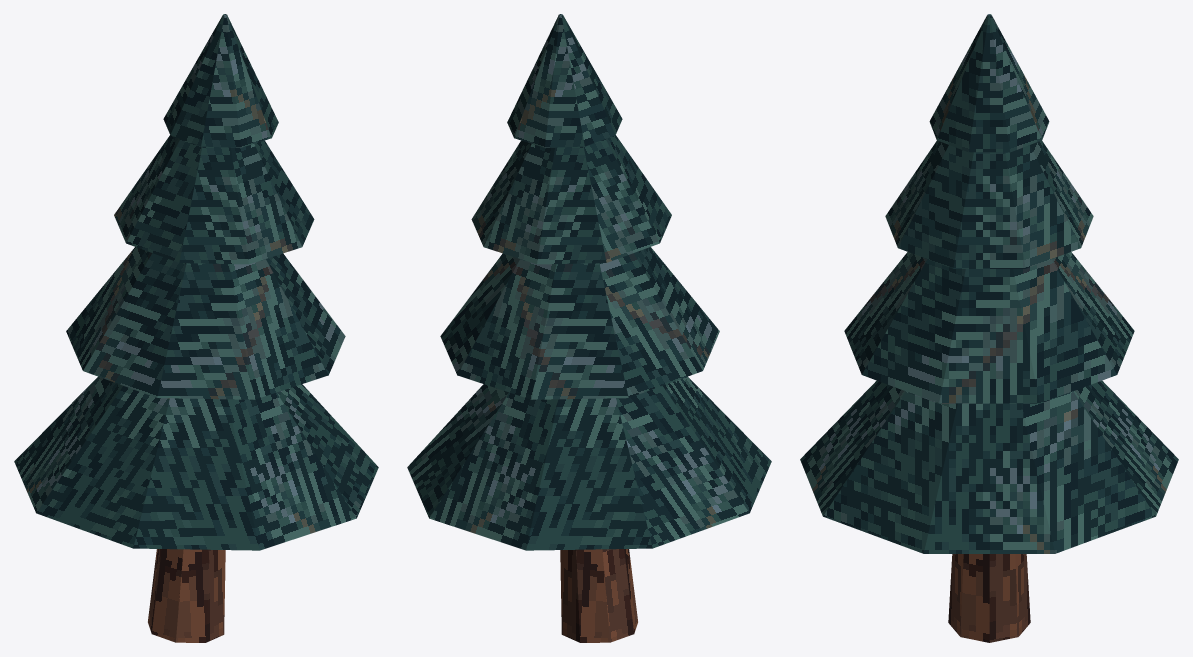
Rendered from arvore_jovem.glb.
3 renders of one model, left to right at view 1: azimuth 30°, elevation 25°; view 2: azimuth 150°, elevation 25°; view 3: azimuth 270°, elevation 25°, orthographic. The views are drawn at different scales.
Parts seen in each view (by area): view 1: pedreira_arvore_jovem; view 2: pedreira_arvore_jovem; view 3: pedreira_arvore_jovem.
Boxes of the visible parts, <box> form: pedreira_arvore_jovem: <box>14,14,378,642</box>; pedreira_arvore_jovem: <box>407,14,771,642</box>; pedreira_arvore_jovem: <box>800,14,1178,642</box>.
Size of the model in its own units: 0.861 by 1.61 by 0.8745.
2 materials, 2 textured.
